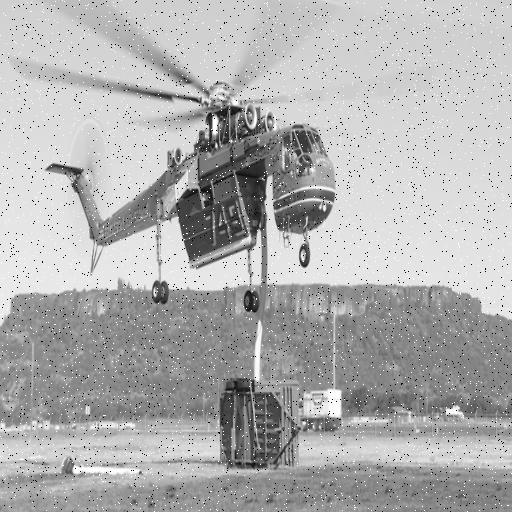helicopter: (15, 1, 444, 289)
